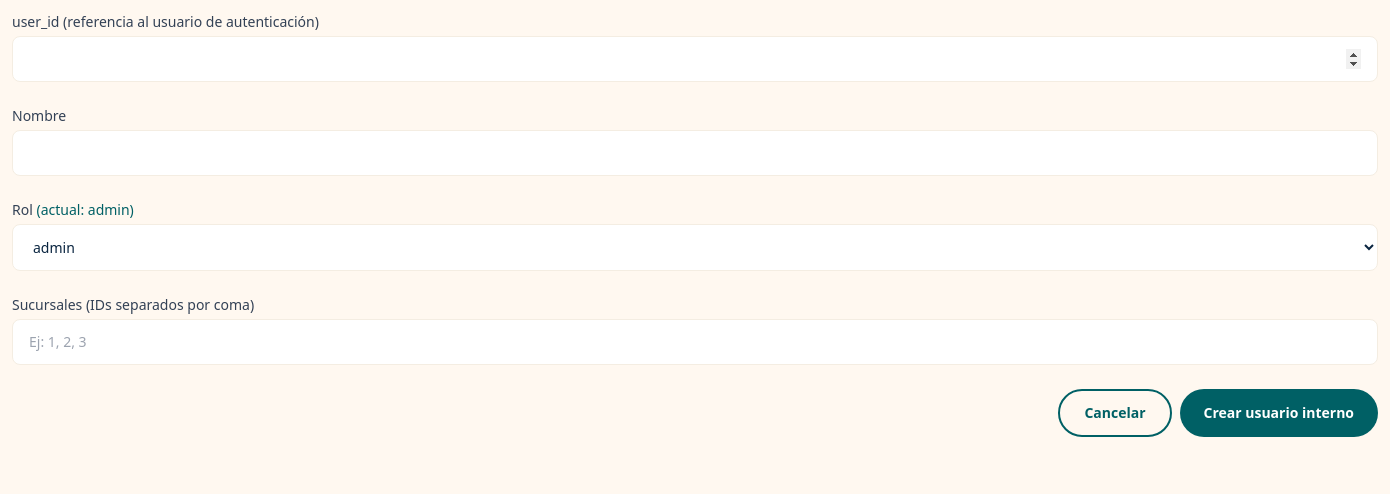
InternalUserForm › shows validation errors for empty required fields
Step 1. Click the button "Crear usuario interno" → point(1279, 413), box [1180,389,1378,437]
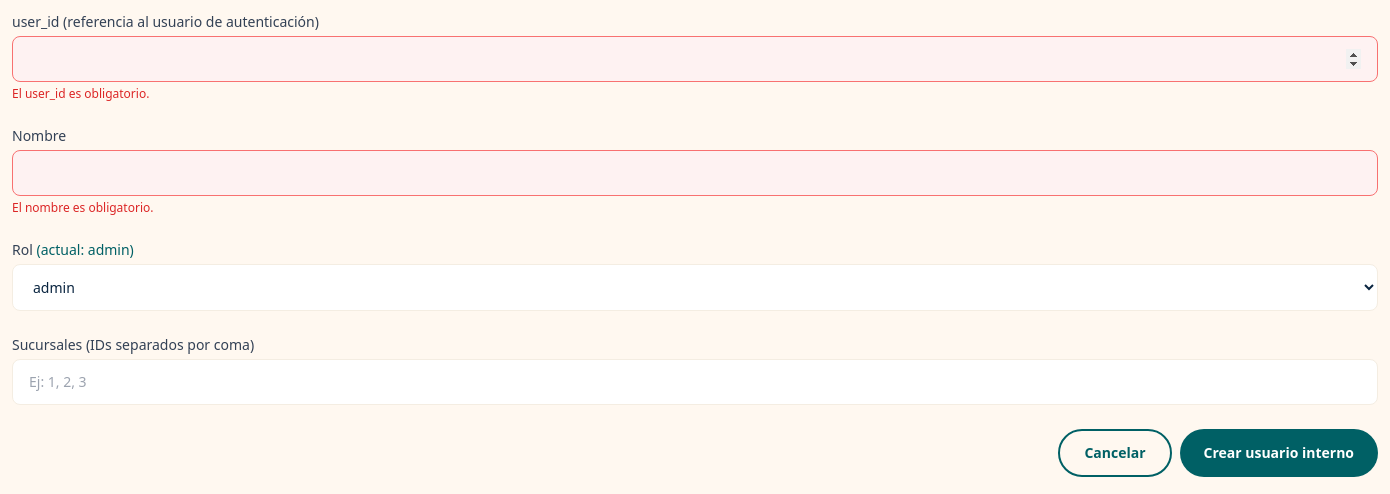
Now the text "El user_id es obligatorio." is shown, box [12,85,149,102]
Now the text "El nombre es obligatorio." is shown, box [12,199,154,216]
